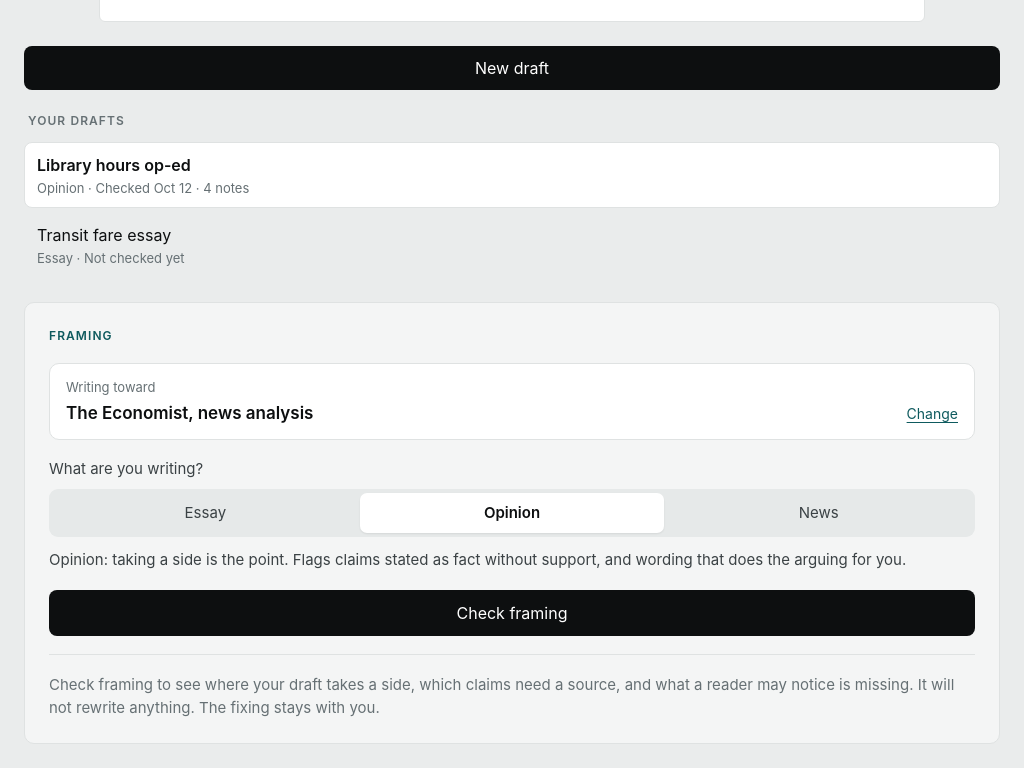
Test: with drafts › changing the kind saves it and updates the standard and the rail
(page scrolled)
Click the button "News". click: [819, 513]
box: [666,493,971,534]
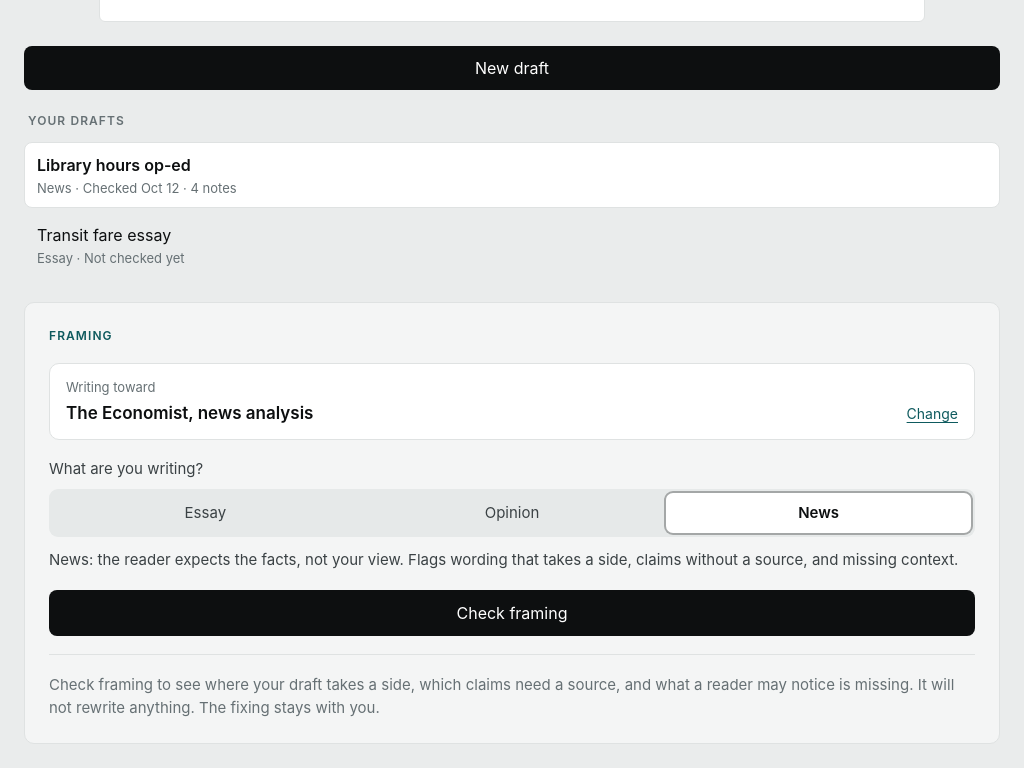
Expected: the text "News: the reader expects the facts" is shown, [49,550,958,570]
Expected: the text "News · Checked Oct 12 · 4 notes" is shown, [37,179,237,197]
